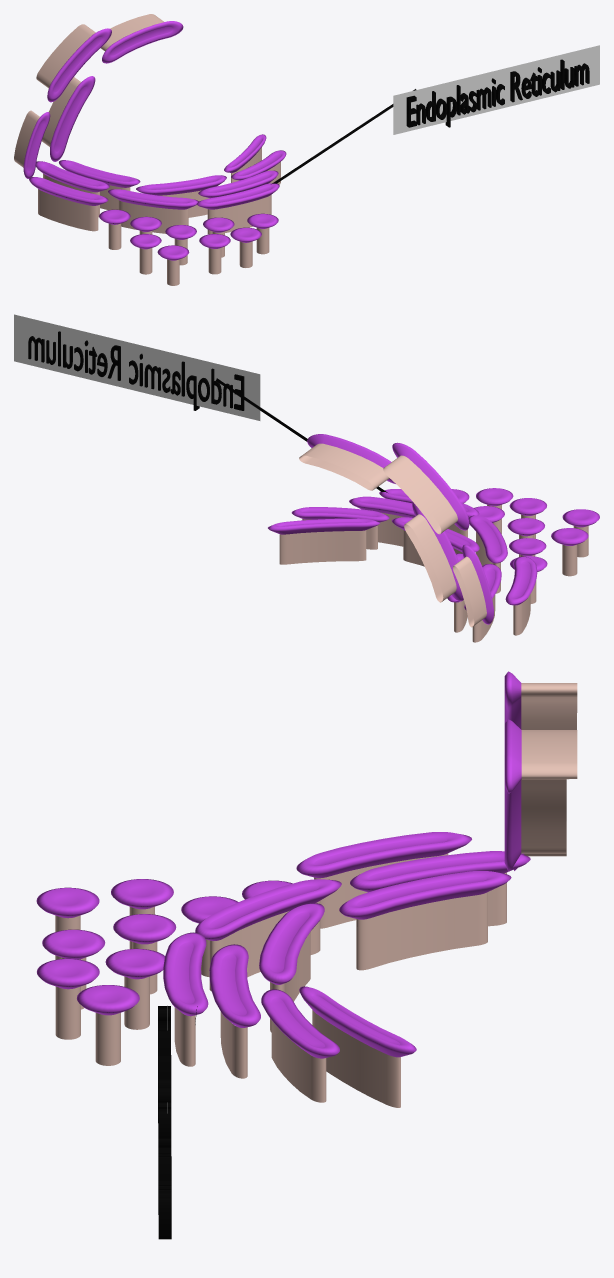
3 renders of one model, top to bottom at view 1: azimuth 30°, elevation 25°; view 2: azimuth 150°, elevation 25°; view 3: azimuth 270°, elevation 25°, orthographic. The views are drawn at different scales.
Parts seen in each view (by area): view 1: Blue_Top, Base_Azules, Plane.005, Text.005, Plane.024; view 2: Base_Azules, Blue_Top, Plane.005, Text.005; view 3: Blue_Top, Base_Azules, Text.005.
Part boxes in pixels (x1,y1,x2,y2): Blue_Top: (23,21,286,260); Base_Azules: (14,14,280,285); Plane.005: (393,45,599,134); Text.005: (406,59,589,127); Plane.024: (271,89,416,184); Base_Azules: (279,443,588,642); Blue_Top: (268,434,599,624); Plane.005: (14,314,260,420); Text.005: (28,331,244,410); Blue_Top: (36,671,530,1058); Base_Azules: (55,683,577,1107); Text.005: (158,1006,171,1239).
Bounding box in the file's own units: 3.22 × 1.01 × 1.51.
